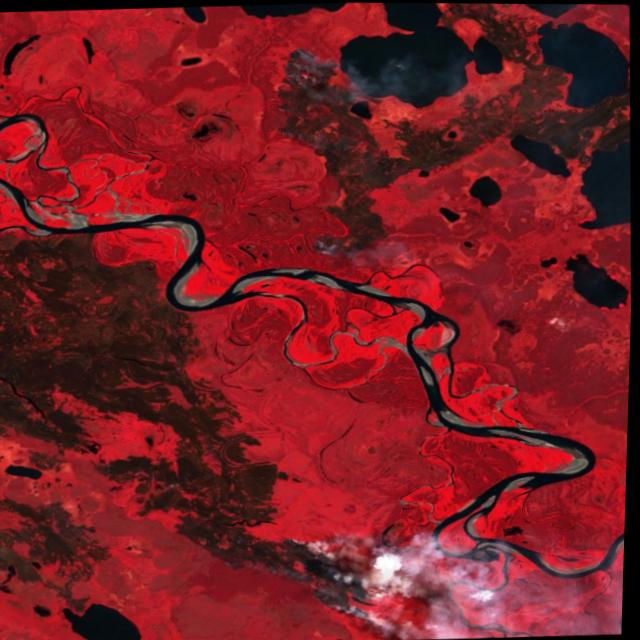fire: (220, 530, 396, 626), (265, 42, 366, 154), (303, 227, 353, 269)
